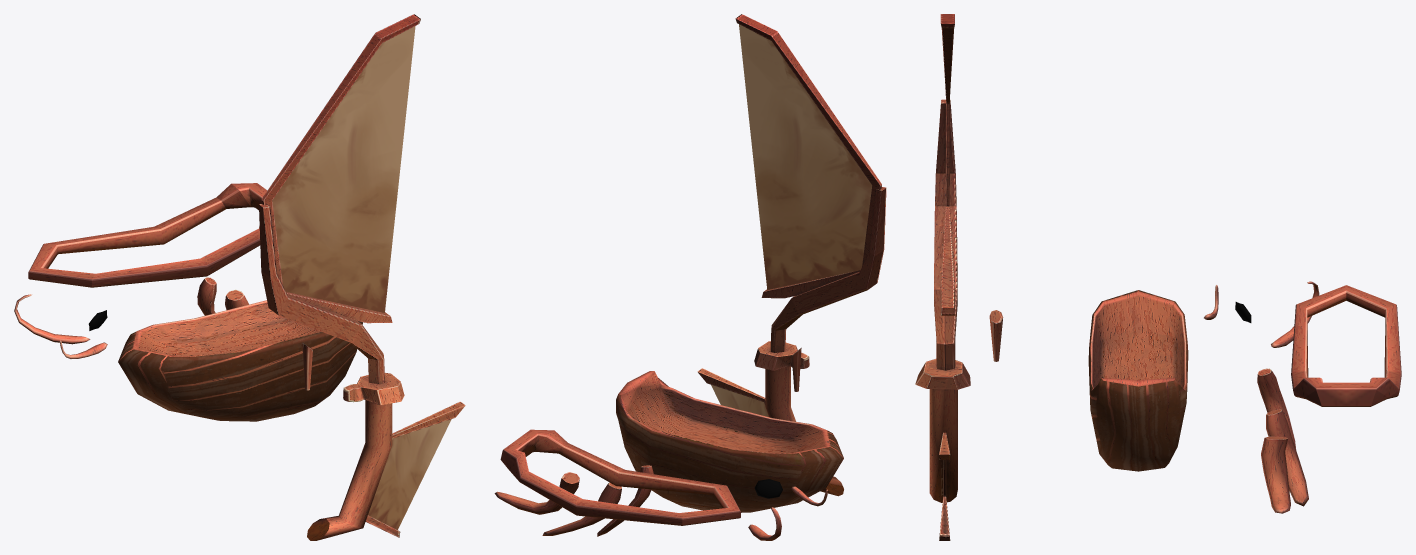
Rendered from SM_ShrimpBoat.fbx.
3 views of the same model, side by side, from view 1: azimuth 30°, elevation 25°; view 2: azimuth 150°, elevation 25°; view 3: azimuth 270°, elevation 25° (orthographic). The views are drawn at different scales.
Parts seen in each view (by area): view 1: Sail_2 (×2), Core, Edge_Wood, Pole, Pole_2, Sail_Frame_1, Wood_Axis, Sail_Frame_2, Whiskers_2, Paw_1; view 2: Sail_2 (×2), Core, Edge_Wood, Pole, Sail_Frame_1, Pole_2, Paw_3, Wood_Axis, Paw_2, Sail_Frame_2, Paw_1; view 3: Core, Edge_Wood, Pole, Pole_2, Sail_Frame_1, Paw_3, Paw_2, Wood_Axis, Paw_1, Sail_Frame_2.
Boxes of the visible parts, bbox=[...] form: Sail_2 (×2): bbox=[272, 26, 451, 529]; Core: bbox=[118, 300, 362, 421]; Edge_Wood: bbox=[28, 183, 267, 287]; Pole: bbox=[259, 204, 384, 384]; Pole_2: bbox=[307, 400, 392, 540]; Sail_Frame_1: bbox=[261, 14, 420, 323]; Wood_Axis: bbox=[343, 372, 404, 405]; Sail_Frame_2: bbox=[365, 401, 465, 537]; Whiskers_2: bbox=[14, 294, 90, 344]; Paw_1: bbox=[197, 277, 216, 315]; Sail_2 (×2): bbox=[711, 24, 872, 416]; Core: bbox=[616, 371, 843, 512]; Edge_Wood: bbox=[500, 429, 740, 525]; Pole: bbox=[770, 187, 886, 352]; Sail_Frame_1: bbox=[735, 14, 881, 298]; Pole_2: bbox=[765, 366, 843, 496]; Paw_3: bbox=[494, 472, 579, 514]; Wood_Axis: bbox=[754, 341, 809, 370]; Paw_2: bbox=[542, 482, 621, 535]; Sail_Frame_2: bbox=[697, 368, 765, 404]; Paw_1: bbox=[597, 465, 653, 536]; Core: bbox=[1088, 290, 1188, 471]; Edge_Wood: bbox=[1291, 285, 1401, 406]; Pole: bbox=[934, 99, 957, 370]; Pole_2: bbox=[929, 389, 957, 502]; Sail_Frame_1: bbox=[940, 14, 954, 315]; Paw_3: bbox=[1261, 436, 1290, 513]; Paw_2: bbox=[1266, 409, 1308, 506]; Wood_Axis: bbox=[915, 359, 970, 389]; Paw_1: bbox=[1257, 368, 1296, 449]; Sail_Frame_2: bbox=[939, 432, 950, 540].
Bounding box in the file's own units: 824 × 1020 × 1222.
